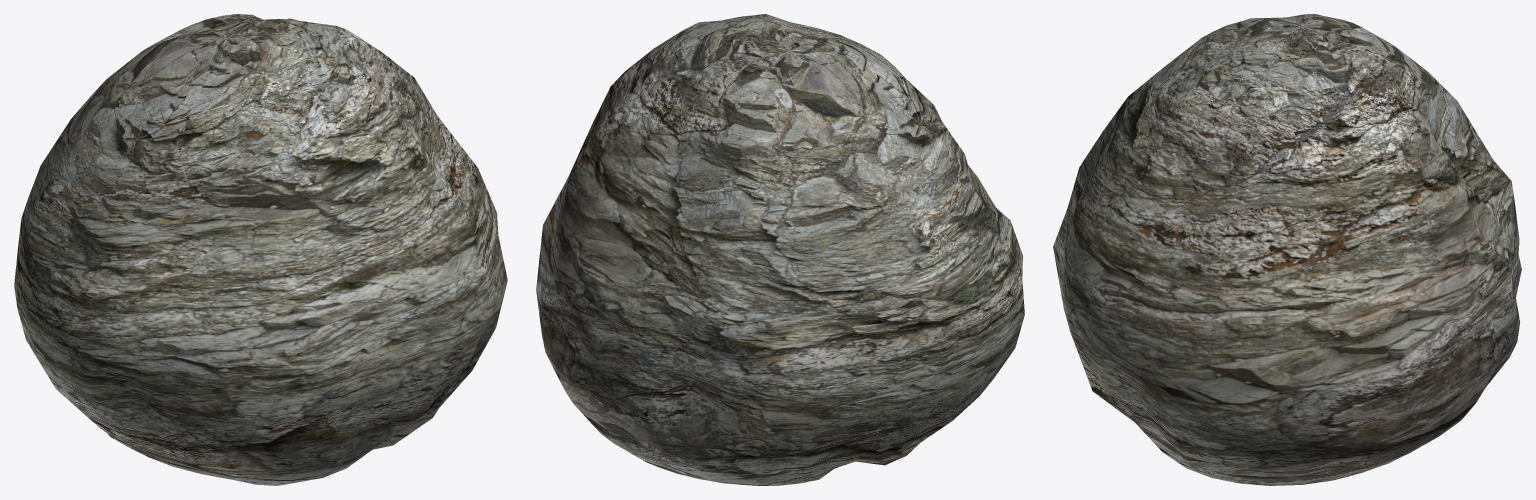
The model's file is Boulder.FBX.
3 renders of one model, left to right at view 1: azimuth 30°, elevation 25°; view 2: azimuth 150°, elevation 25°; view 3: azimuth 270°, elevation 25°, orthographic. The views are drawn at different scales.
Parts seen in each view (by area): view 1: Sphere001; view 2: Sphere001; view 3: Sphere001.
Part boxes in pixels (left/top/right/bottom): Sphere001: left=14, top=14, right=507, bottom=485; Sphere001: left=536, top=14, right=1024, bottom=485; Sphere001: left=1053, top=14, right=1521, bottom=485.
Bounding box in the file's own units: 70.41 × 66.23 × 67.58.
Materials: 1 (1 with a texture image).
